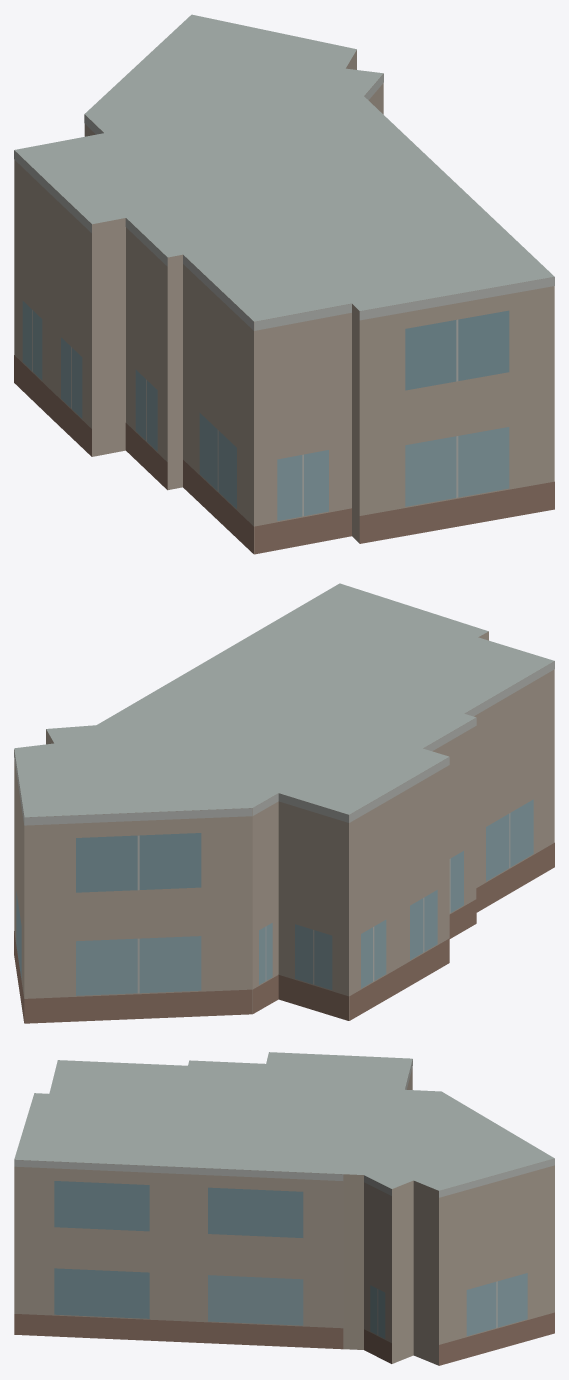
File: survey-upis-32674790.glb
3 renders of one model, top to bottom at view 1: azimuth 30°, elevation 25°; view 2: azimuth 150°, elevation 25°; view 3: azimuth 270°, elevation 25°, orthographic. The views are drawn at different scales.
Parts seen in each view (by area): view 1: survey-upis-32674790.tmp; view 2: survey-upis-32674790.tmp; view 3: survey-upis-32674790.tmp.
Boxes of the visible parts, x1,y1,x2,y2 form: survey-upis-32674790.tmp: (14,14,554,554); survey-upis-32674790.tmp: (14,583,554,1023); survey-upis-32674790.tmp: (14,1052,554,1365).
Size of the model in its own units: 10.38 by 6.1 by 17.09.
